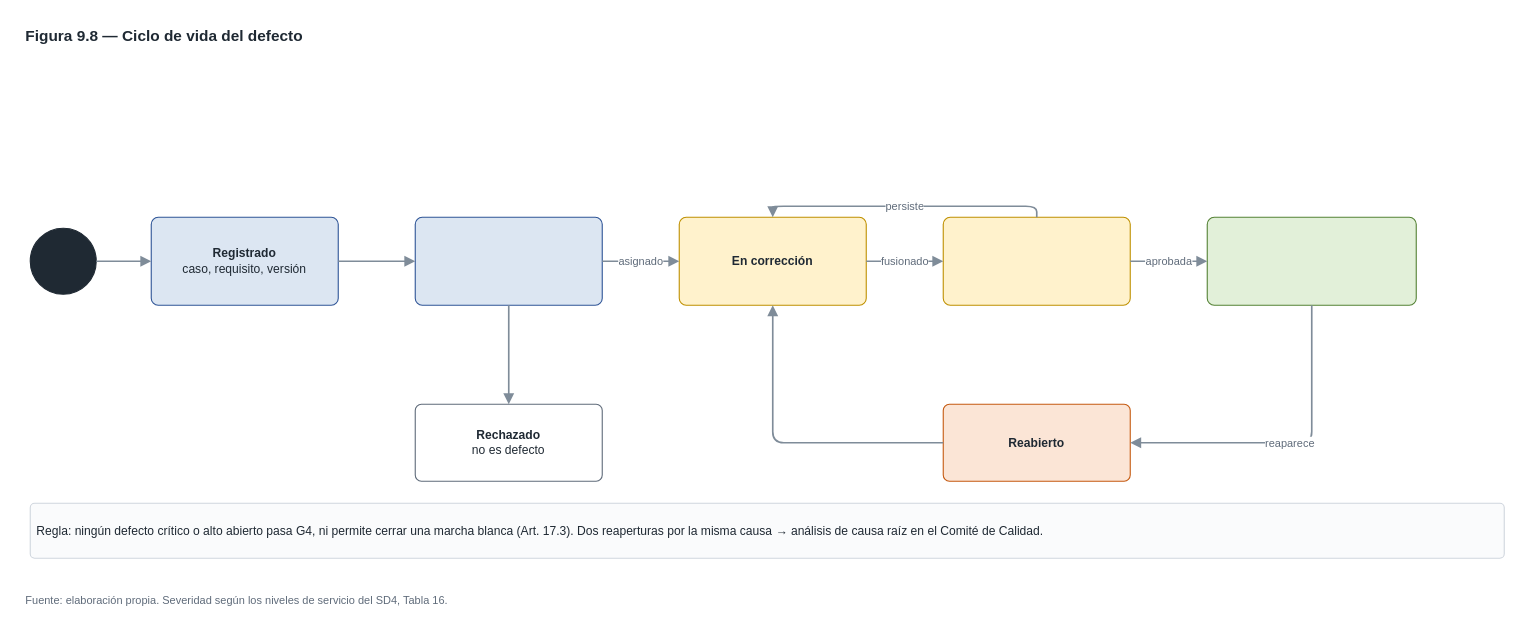
Image size: 1533x631. Some labels were removed from this diagram. The box of each missing label's shape, as (x1, y1, x2, y2) in pixels:
Cerrado prueba aprobada y agregada a la regresión: (1206, 216, 1416, 305)
Clasificado severidad crítica, alta, media o baja: (414, 216, 602, 305)
En verificación prueba repetida: (942, 216, 1130, 305)
